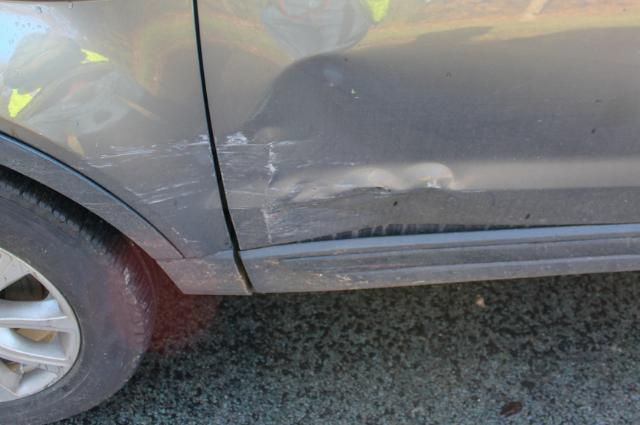Door: (207, 124, 509, 296)
Fender: (0, 0, 224, 291)
